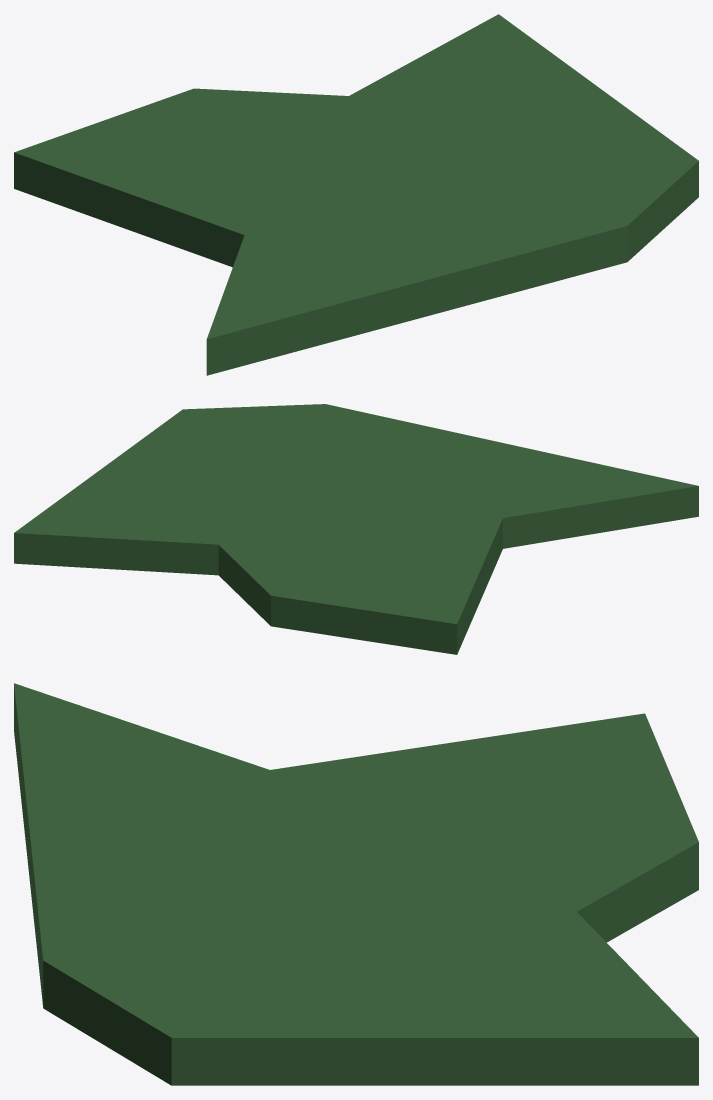
File: x_proval_00_9_1_rmstrd.fbx
The picture shows the model from 3 angles, top to bottom: view 1: azimuth 30°, elevation 25°; view 2: azimuth 150°, elevation 25°; view 3: azimuth 270°, elevation 25°; orthographic projection. The views are drawn at different scales.
Parts seen in each view (by area): view 1: x_proval_00_9_1_rmstrd1; view 2: x_proval_00_9_1_rmstrd1; view 3: x_proval_00_9_1_rmstrd1.
Boxes of the visible parts, x1,y1,x2,y2 form: x_proval_00_9_1_rmstrd1: (14,14,698,375); x_proval_00_9_1_rmstrd1: (14,404,698,654); x_proval_00_9_1_rmstrd1: (14,683,698,1085).
Bounding box in the file's own units: 3.17 × 0.2 × 2.59.
